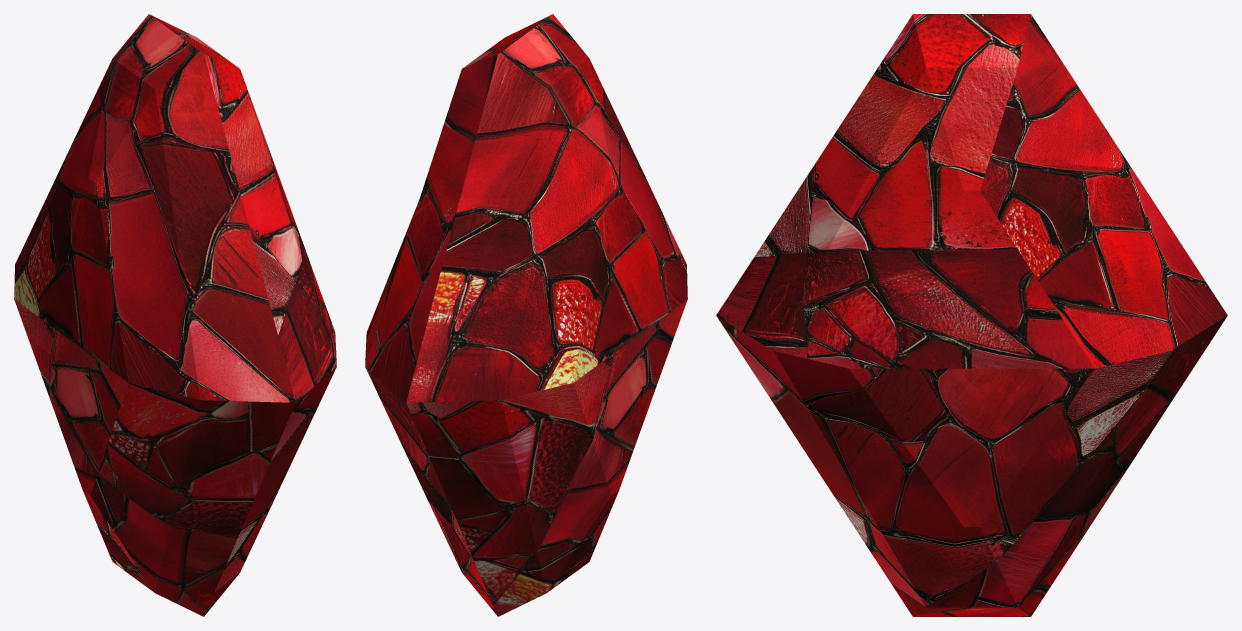
The model's file is gemstone7Red.glb.
3 views of the same model, side by side, from view 1: azimuth 30°, elevation 25°; view 2: azimuth 150°, elevation 25°; view 3: azimuth 270°, elevation 25° (orthographic). The views are drawn at different scales.
Parts seen in each view (by area): view 1: gemstone6; view 2: gemstone6; view 3: gemstone6.
Boxes of the visible parts, x1=… form: gemstone6: x1=14, y1=14, x2=336, y2=616; gemstone6: x1=365, y1=14, x2=687, y2=616; gemstone6: x1=716, y1=14, x2=1227, y2=616.
Bounding box in the file's own units: 0.5 × 1.3 × 1.
Materials: 1 (1 with a texture image).
